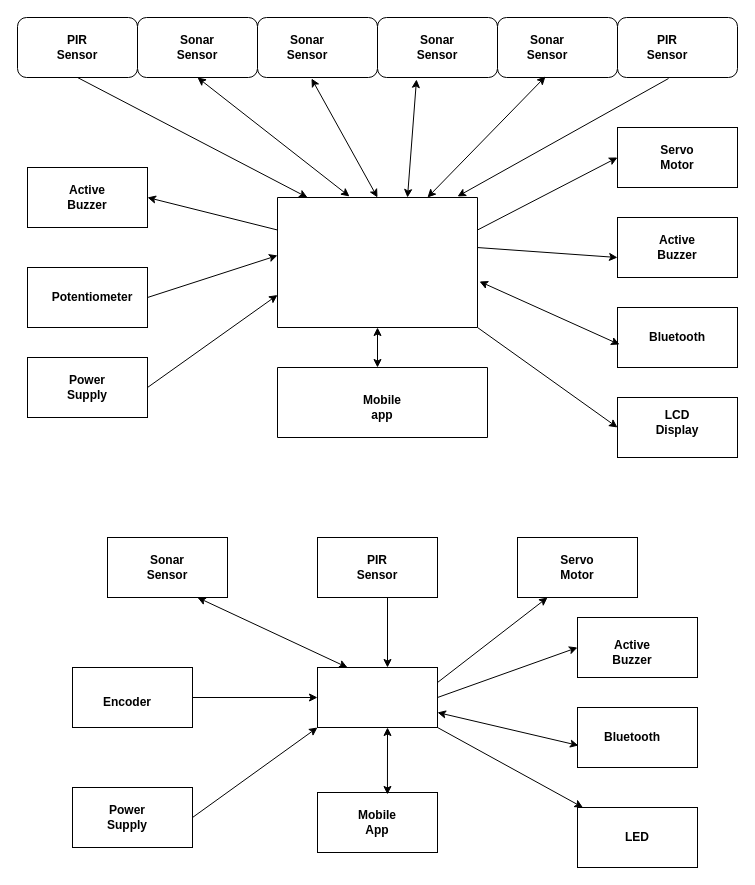
This 755x885 diagram has some shape labels left out. Here are the shapes that lost their labels. From the top down, the centre of each, then its label:
At (377,262): "Arduino Mega 2560 R3".
At (377,697): "Microcontroller".
